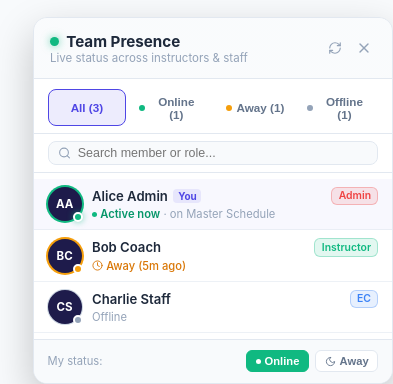
Test: TeamPresenceDropdown › searches users by name or role keyword
(page scrolled)
Type "Instructor" into the field with placeholder "Search member or role...". click: [223, 153]
box: [78,146,368,160]
(page scrolled)
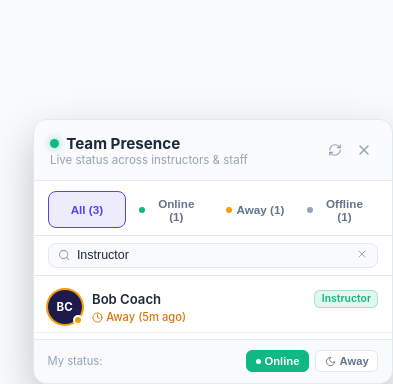
Check: the text "Bob Coach" is shown, box [92,291,161,307]
Check: the text "Alice Admin" is gone
Check: the text "Charlie Staff" is gone
